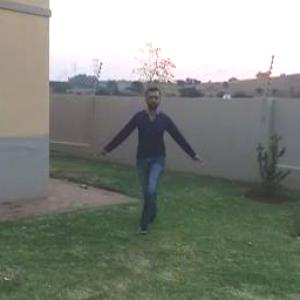land: (94, 78, 204, 249)
